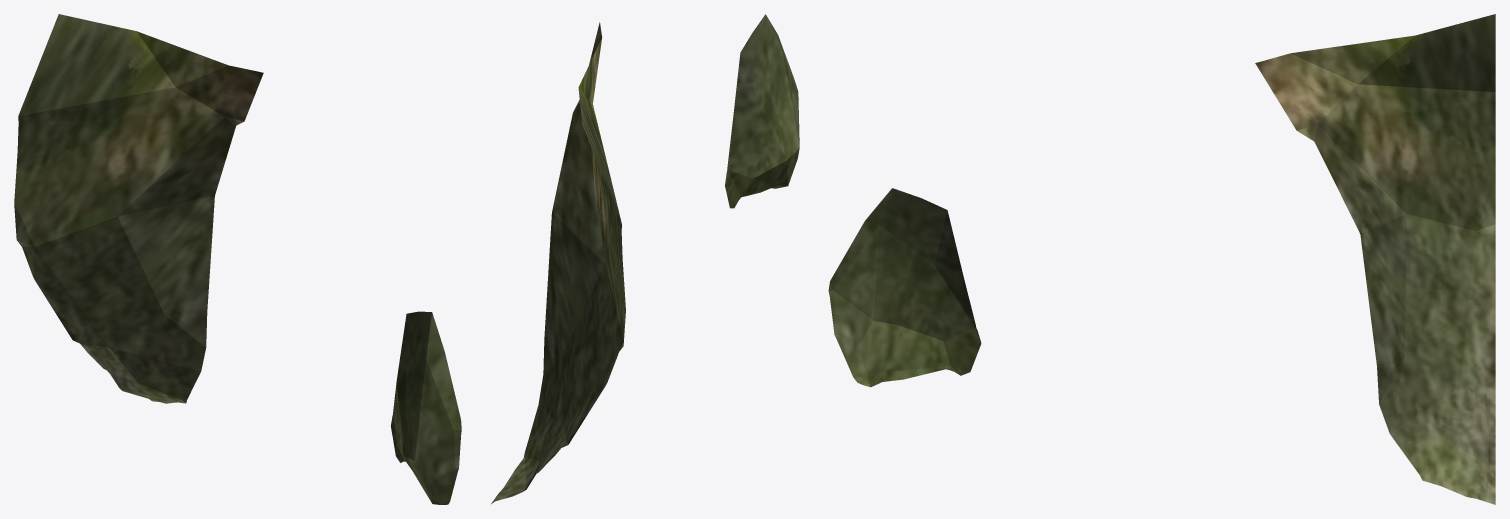
3 views of the same model, side by side, from view 1: azimuth 30°, elevation 25°; view 2: azimuth 150°, elevation 25°; view 3: azimuth 270°, elevation 25° (orthographic). The views are drawn at different scales.
Bounding box in the file's own units: 0.7304 × 2.07 × 2.84.
1 material, 1 textured.
